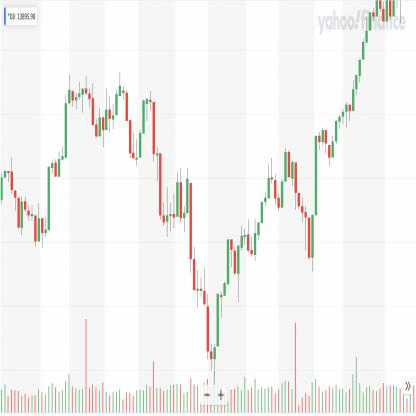Bearish: 3 Black Crows: (10, 154, 20, 234)
Bearish: Tweezer Top: (284, 145, 291, 186)
Bullish: 3 White Soldiers: (253, 198, 264, 263), (358, 14, 368, 84), (354, 35, 365, 96), (351, 57, 362, 115), (362, 8, 372, 64)
Bullish: Tweezer Bottom: (308, 213, 314, 275)
